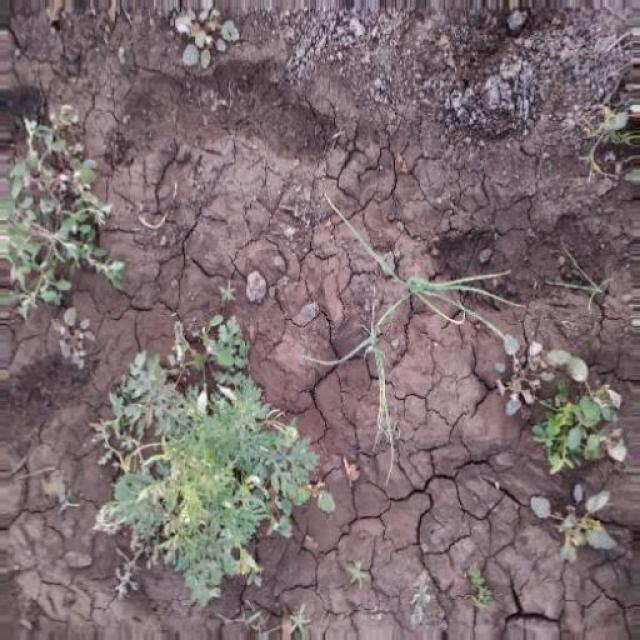weed: (96, 353, 319, 592), (504, 338, 630, 568), (2, 120, 102, 361)
